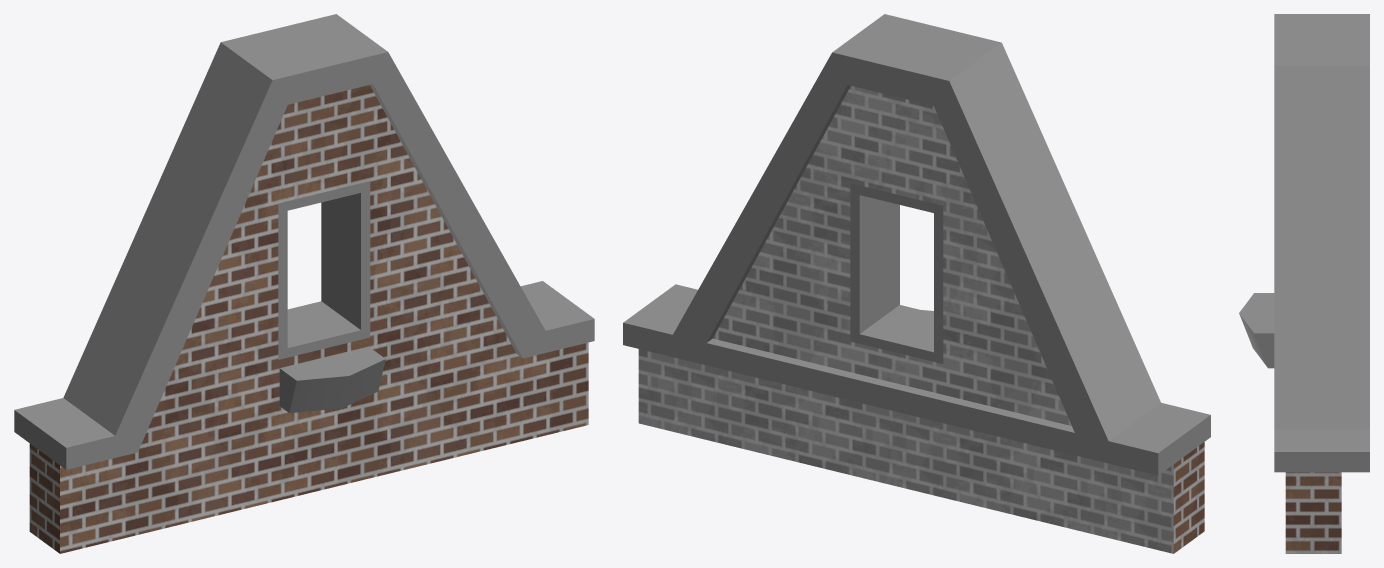
The model's file is Roof_Wall_003.FBX.
3 renders of one model, left to right at view 1: azimuth 30°, elevation 25°; view 2: azimuth 150°, elevation 25°; view 3: azimuth 270°, elevation 25°, orthographic. The views are drawn at different scales.
Parts seen in each view (by area): view 1: Roof_Wall_003; view 2: Roof_Wall_003; view 3: Roof_Wall_003.
Part boxes in pixels (x1=…): Roof_Wall_003: x1=14, y1=14, x2=594, y2=553; Roof_Wall_003: x1=623, y1=14, x2=1210, y2=553; Roof_Wall_003: x1=1239, y1=14, x2=1369, y2=553.
Size of the model in its own units: 500 by 116 by 387.
